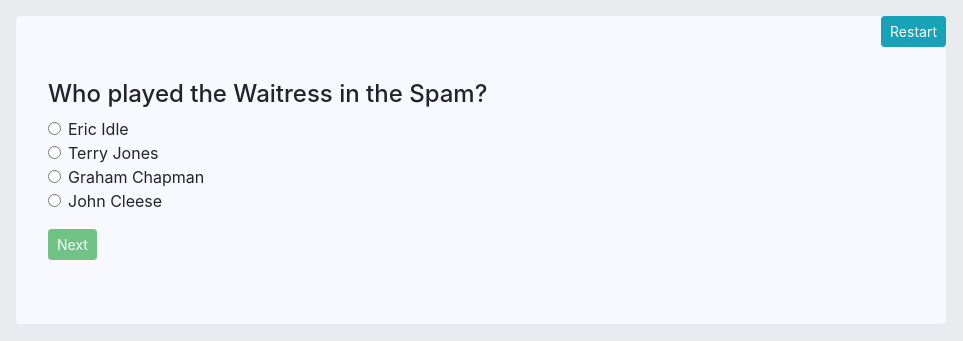
Test case: Question › With response data › should render next question when next button is clicked
Click the radio button labelled "Eric Idle" at (54, 128), box [48, 122, 61, 135]
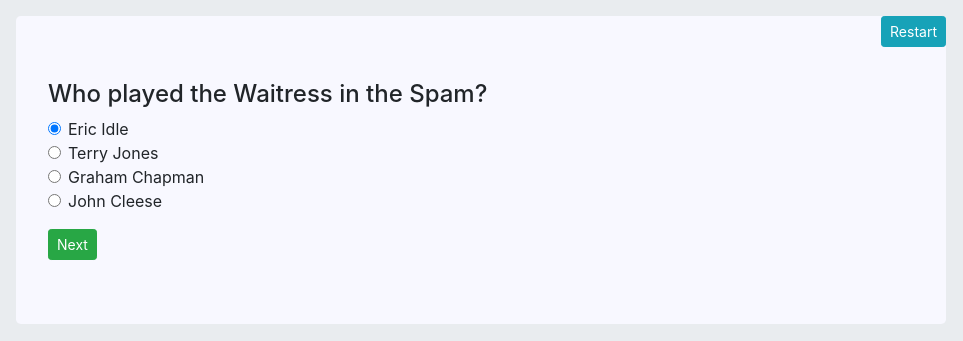
Click the button "Next" at (72, 244), box [48, 229, 97, 260]
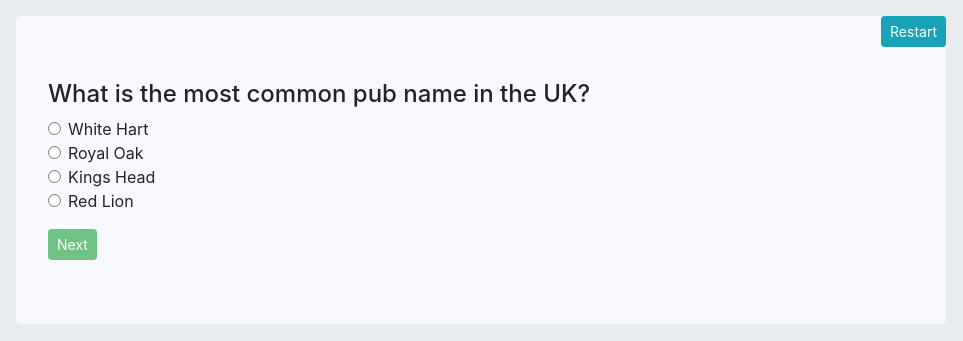
Result: the heading "What is the most common pub name in the UK?" is shown at [48, 79, 590, 108]
